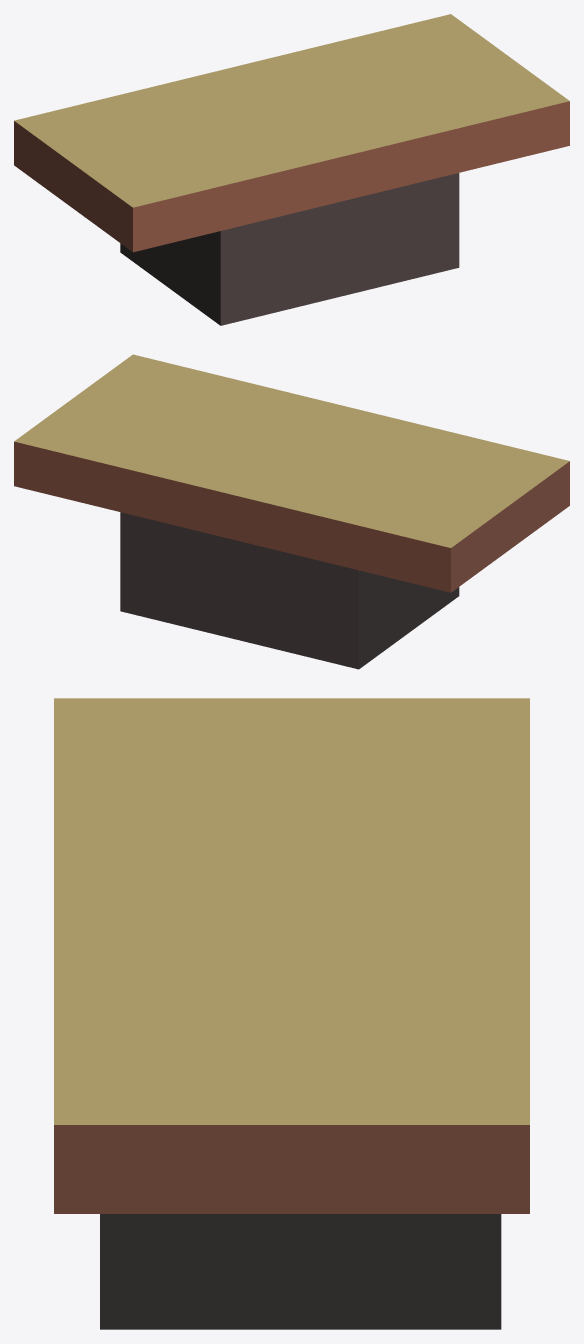
Rendered from TB_D_Prop_StoreStand_Small_B.FBX.
The picture shows the model from 3 angles, top to bottom: view 1: azimuth 30°, elevation 25°; view 2: azimuth 150°, elevation 25°; view 3: azimuth 270°, elevation 25°; orthographic projection. The views are drawn at different scales.
Visible parts, largest first — view 1: TB_D_Prop_StoreStand_Small_B; view 2: TB_D_Prop_StoreStand_Small_B; view 3: TB_D_Prop_StoreStand_Small_B.
Part boxes in pixels (bbox=[...]): TB_D_Prop_StoreStand_Small_B: bbox=[14, 14, 569, 325]; TB_D_Prop_StoreStand_Small_B: bbox=[14, 354, 569, 669]; TB_D_Prop_StoreStand_Small_B: bbox=[54, 698, 529, 1329].
Size of the model in its own units: 1.65 by 0.5431 by 0.7765.
